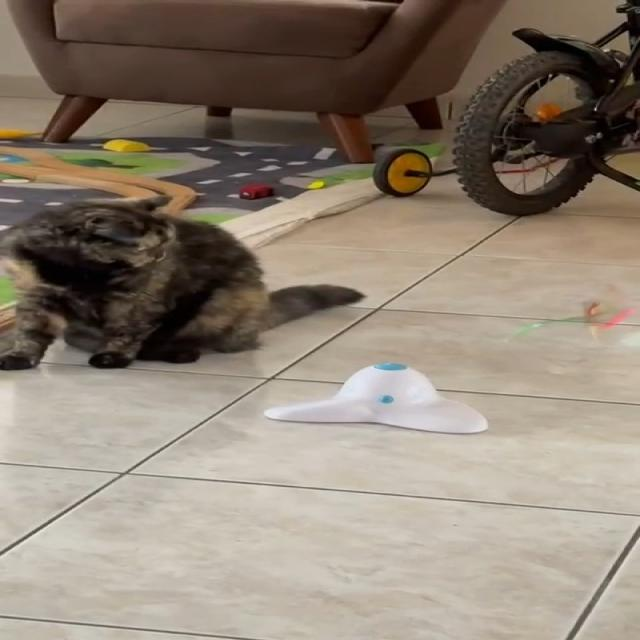authorized: (0, 193, 365, 370)
